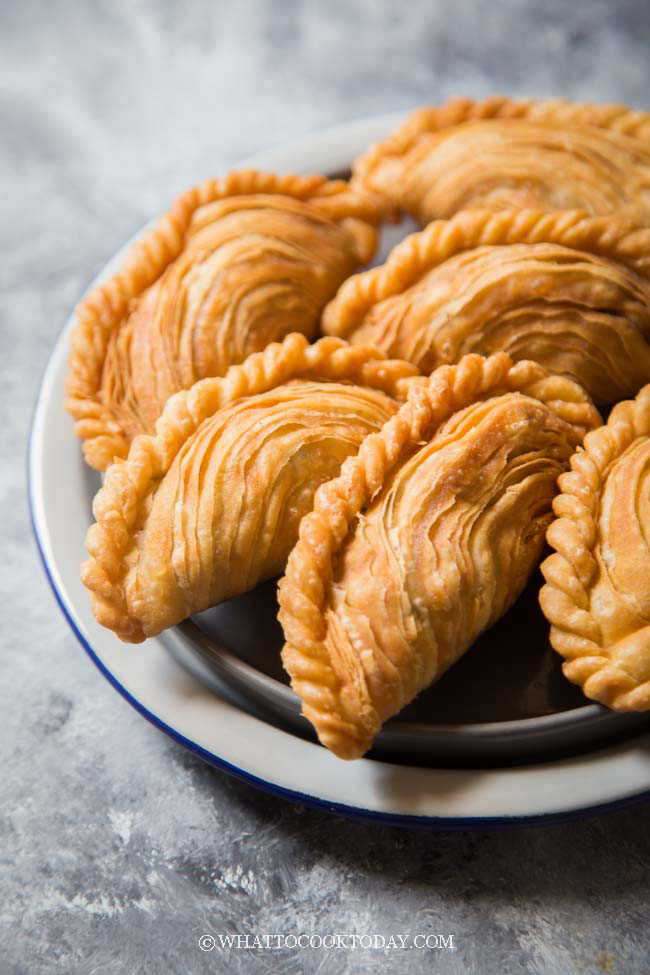Curry Puff: (312, 344, 598, 761), (63, 322, 426, 637), (67, 133, 377, 458), (322, 198, 649, 404), (334, 58, 649, 215), (511, 366, 649, 710)
